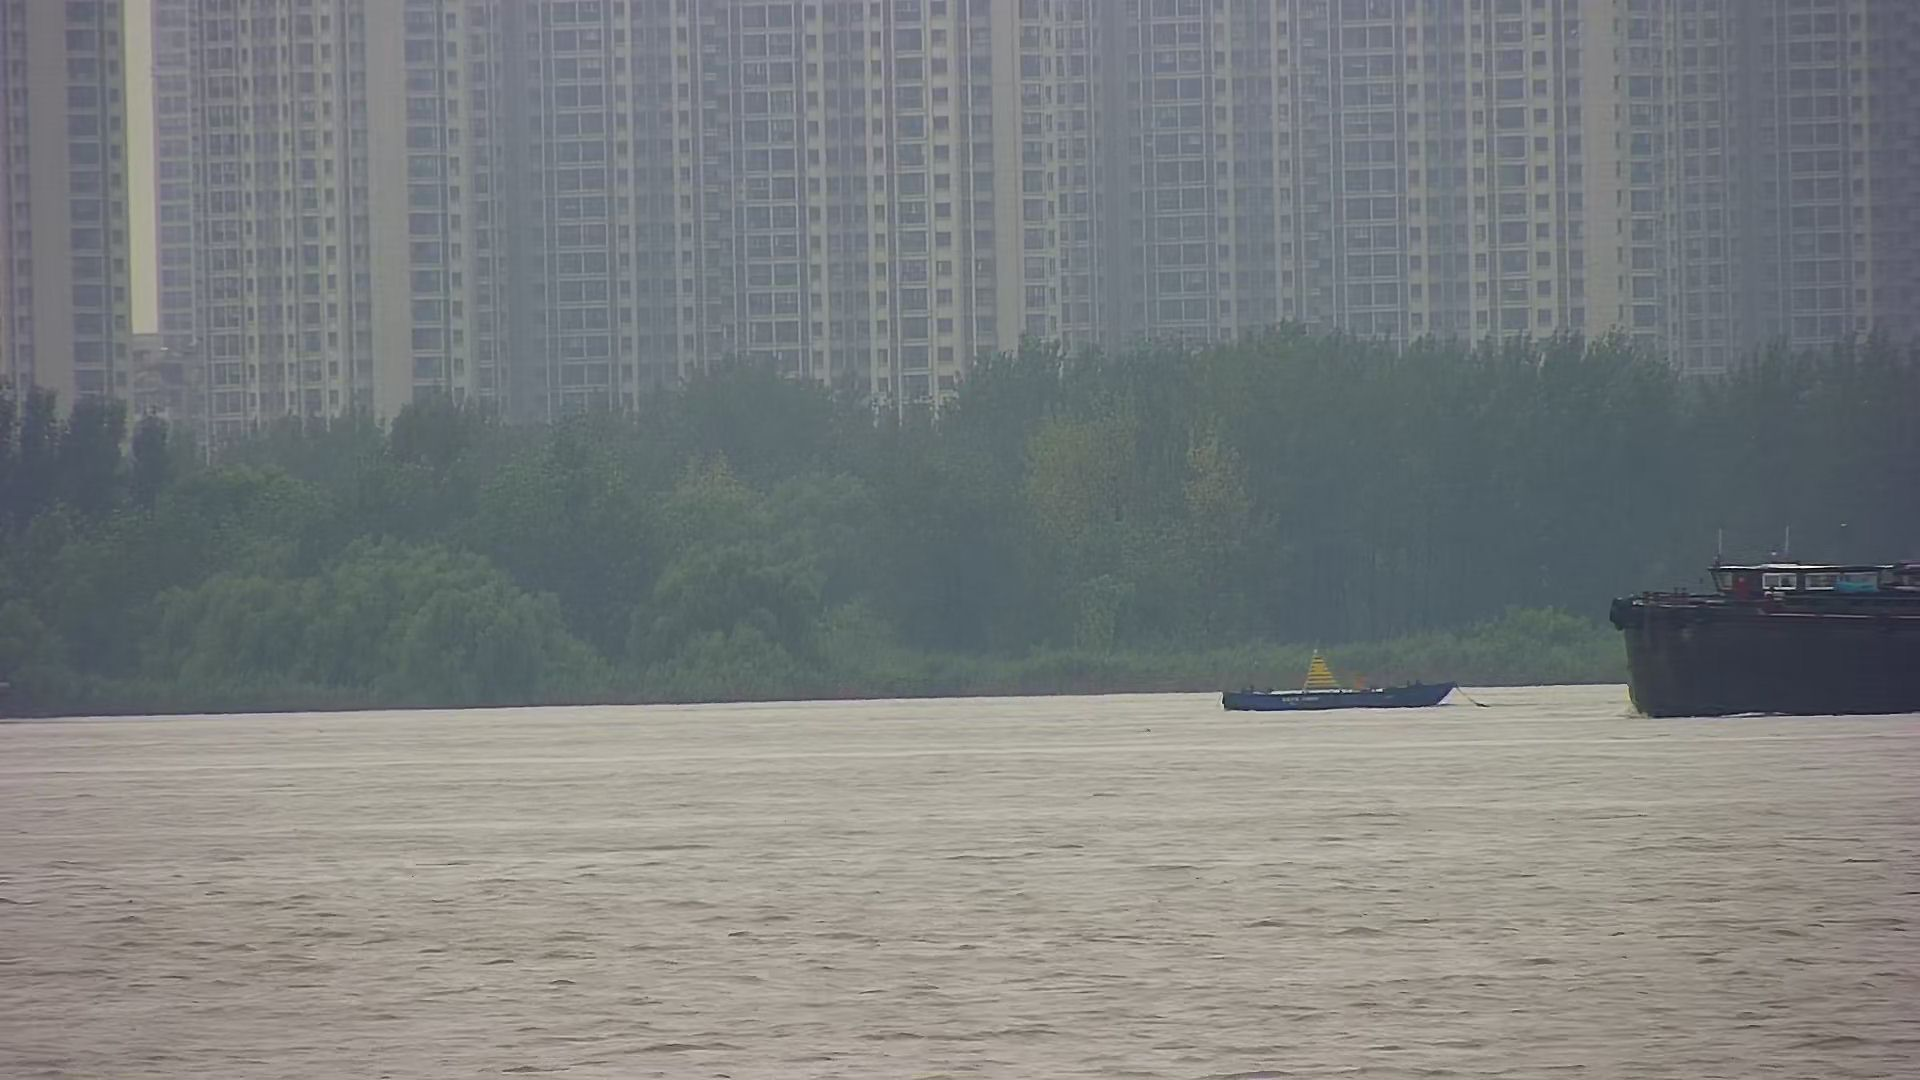boat: (1218, 640, 1462, 712)
ship: (1611, 555, 1920, 717)
